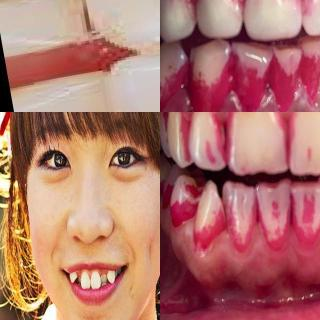maligned: (193, 182, 228, 253), (287, 179, 320, 246), (90, 270, 102, 292), (99, 271, 109, 287), (67, 271, 77, 285), (106, 268, 116, 282), (76, 274, 82, 287)
